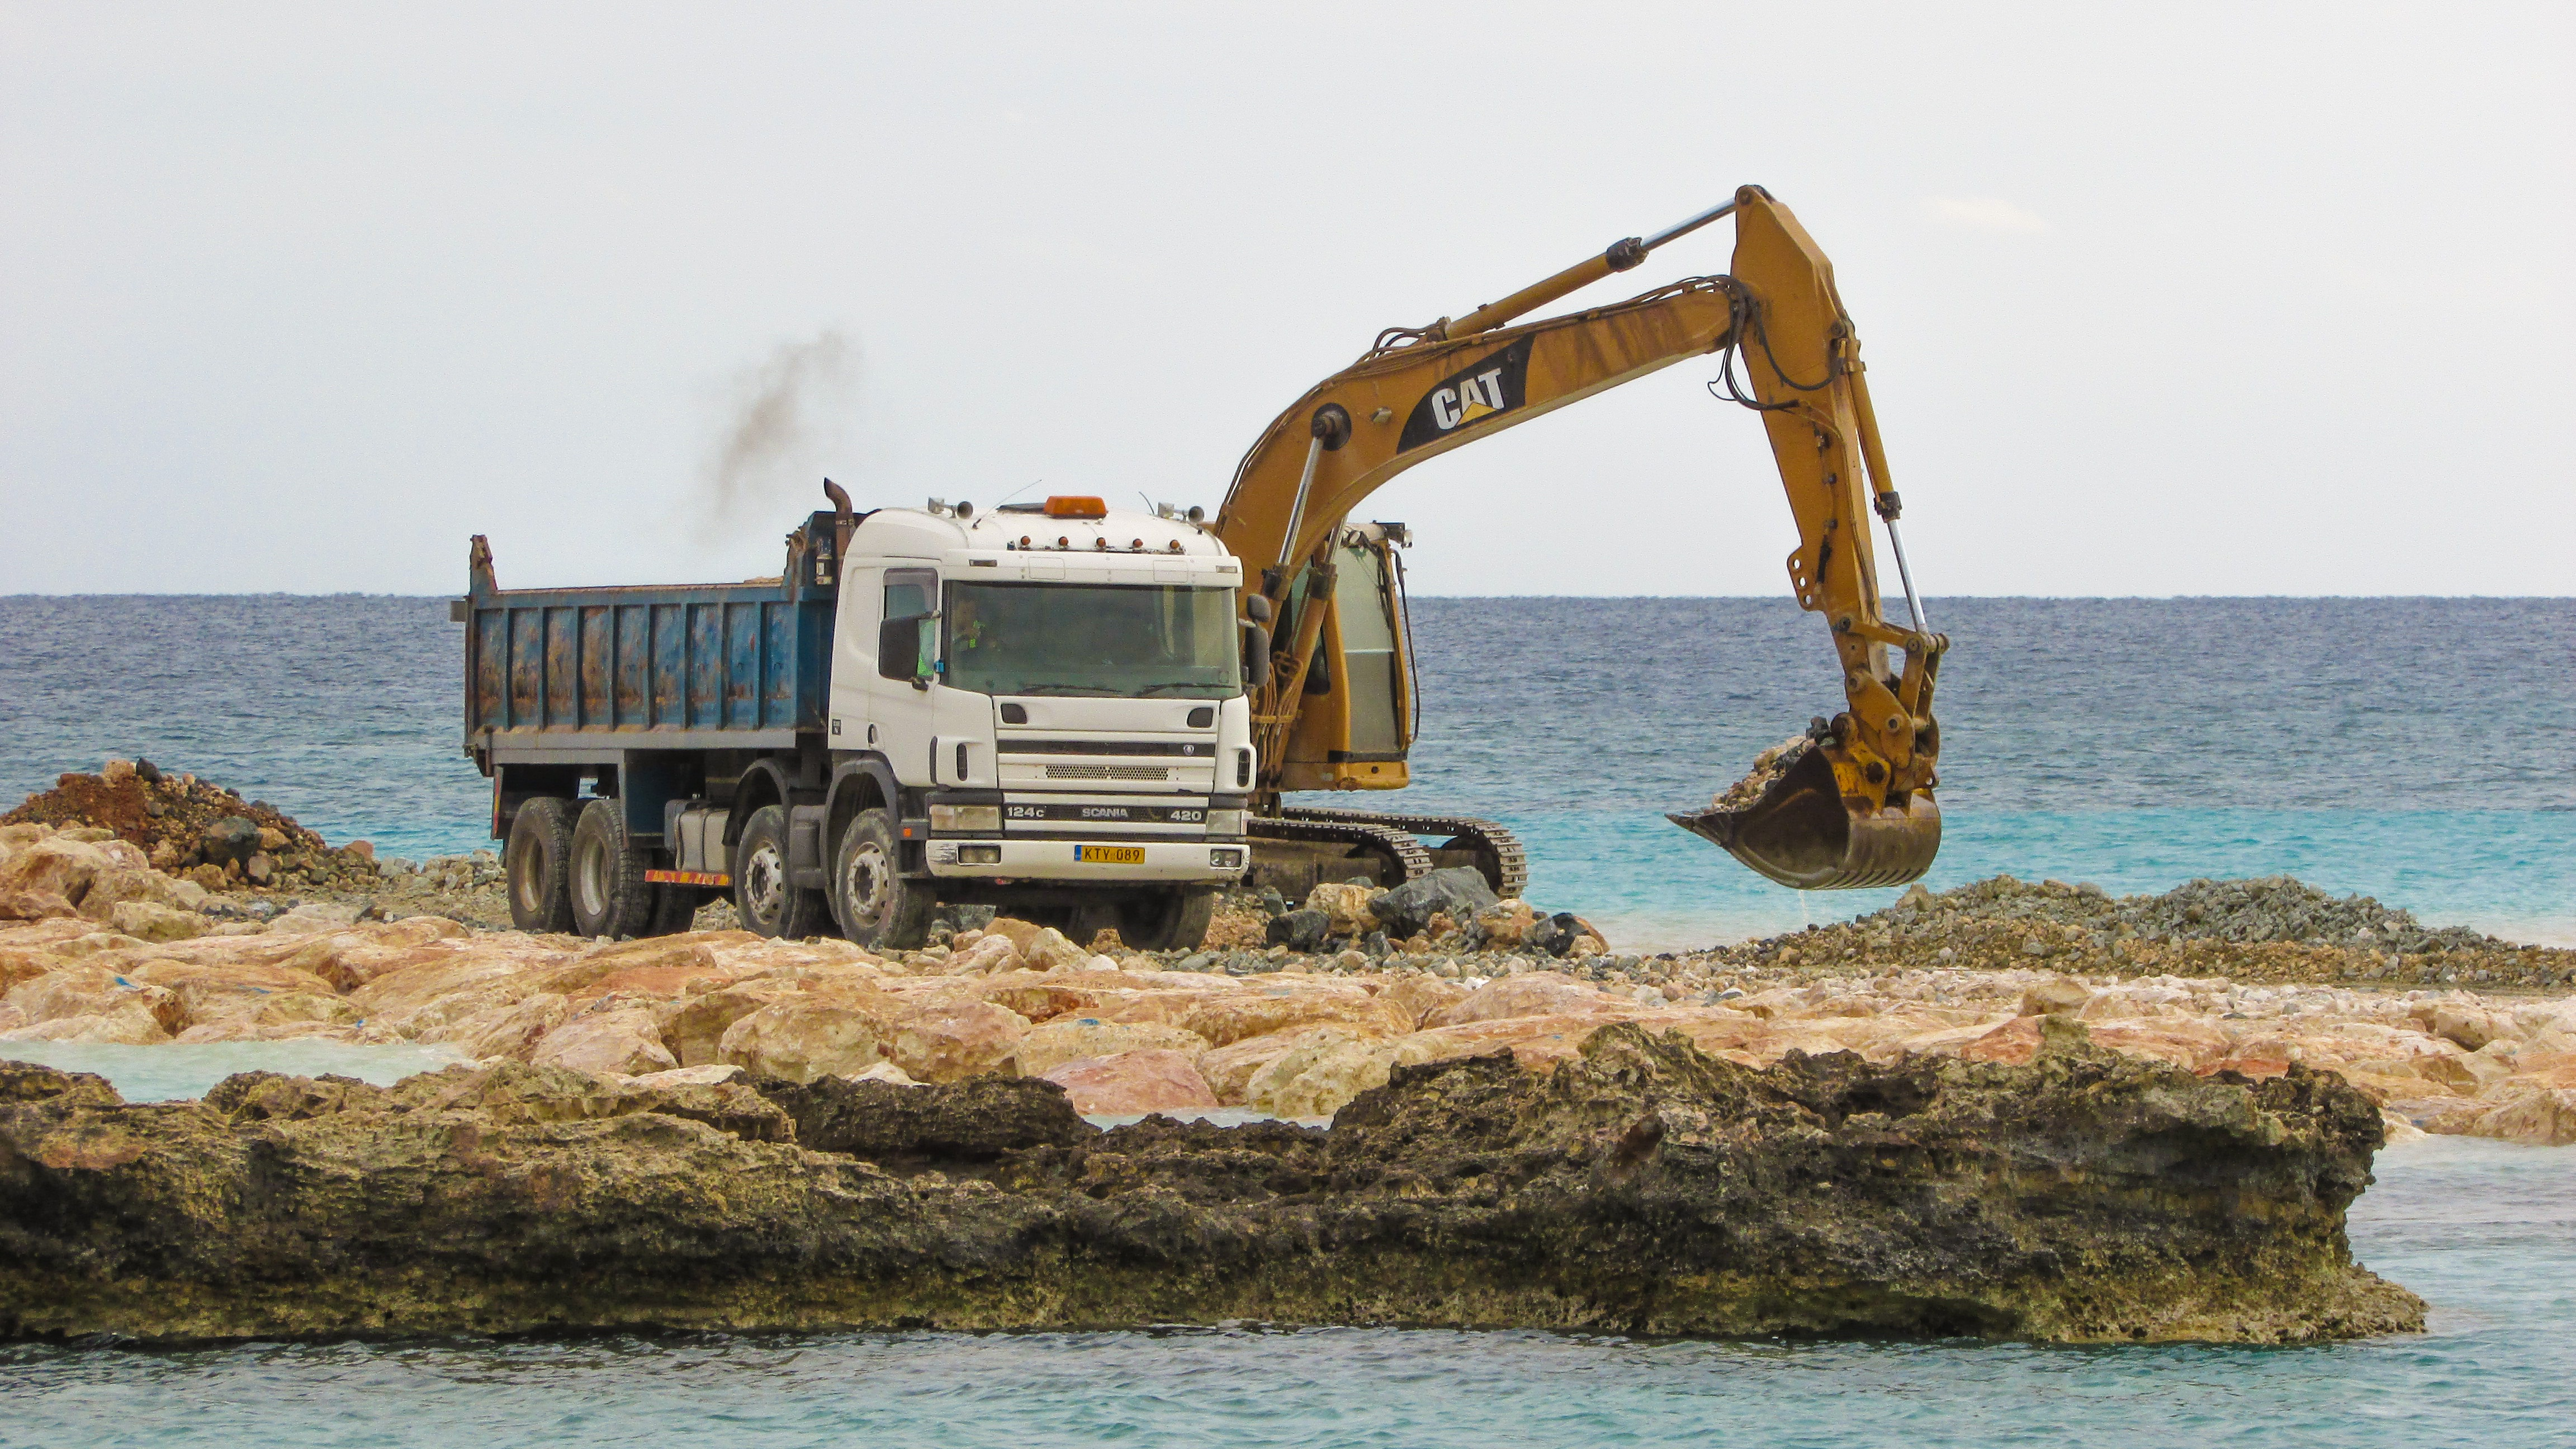excavator: (1244, 177, 1943, 931)
truck: (439, 487, 1246, 941)
